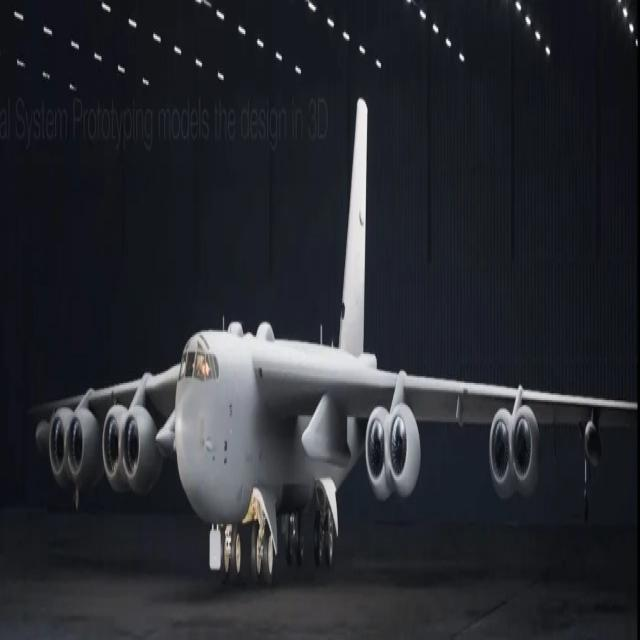B52: (28, 46, 640, 640)
